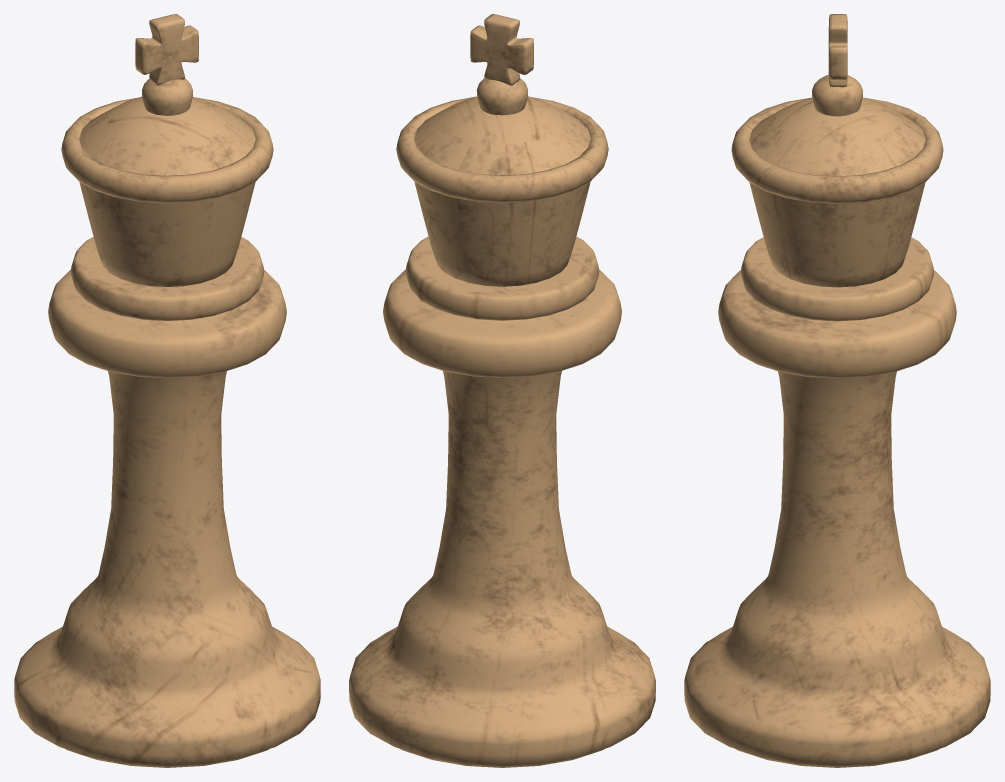
Rendered from GEO_WhiteKing.obj.
3 views of the same model, side by side, from view 1: azimuth 30°, elevation 25°; view 2: azimuth 150°, elevation 25°; view 3: azimuth 270°, elevation 25° (orthographic).
Parts seen in each view (by area): view 1: GEO_WhiteKing; view 2: GEO_WhiteKing; view 3: GEO_WhiteKing.
Part boxes in pixels (<box>): GEO_WhiteKing: <box>14,14,320,767</box>; GEO_WhiteKing: <box>349,14,655,767</box>; GEO_WhiteKing: <box>684,14,990,767</box>.
Bounding box in the file's own units: 0.0429 × 0.1066 × 0.0429.
